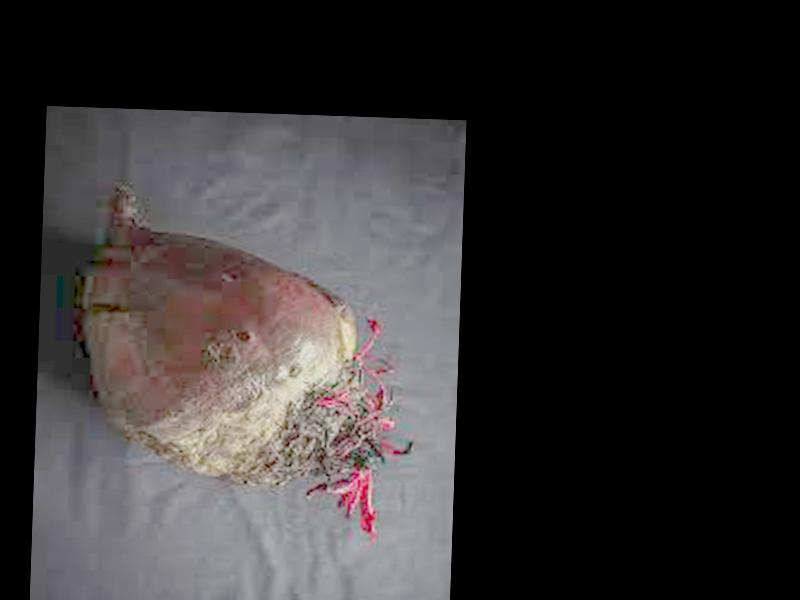Beet: (77, 182, 422, 541)
